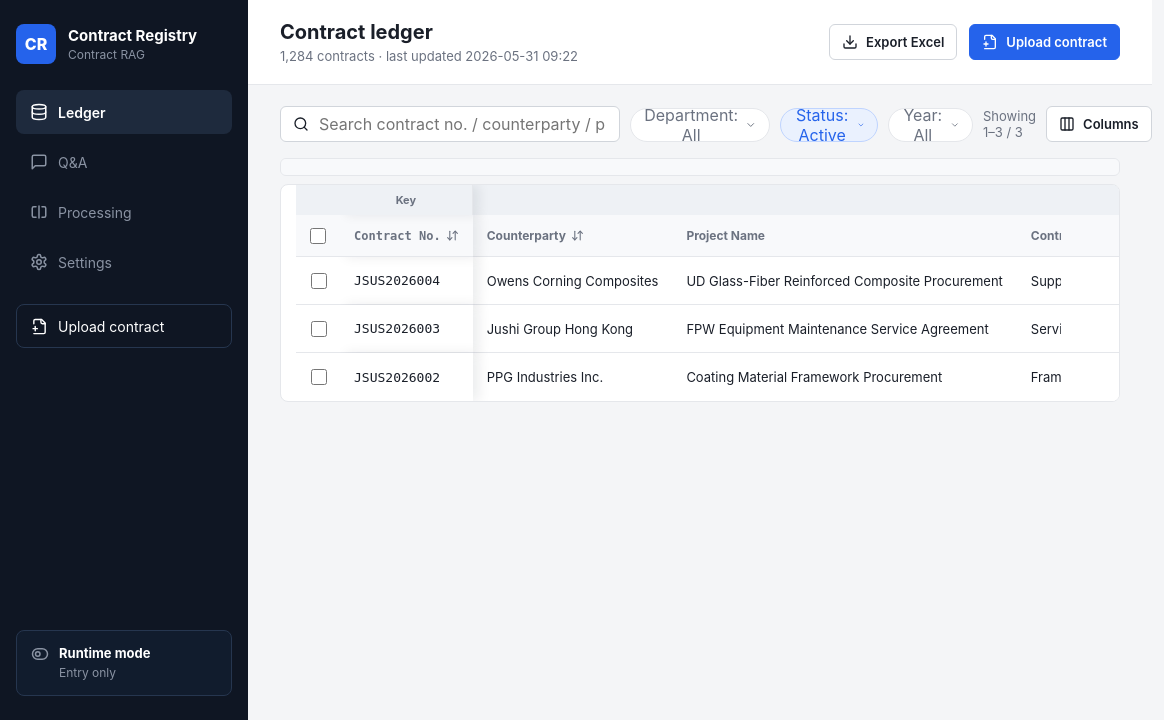
Test case: Contract-RAG frontend › shows a filter empty state and can clear ledger filters
Expected: the text "Owens Corning Composites" is shown, left=473, top=257, right=672, bottom=305
In the field with placeholder "Search contract no. / counterparty / project": {"x": 462, "y": 124} left=317, top=112, right=607, bottom=134, type "no such contract"
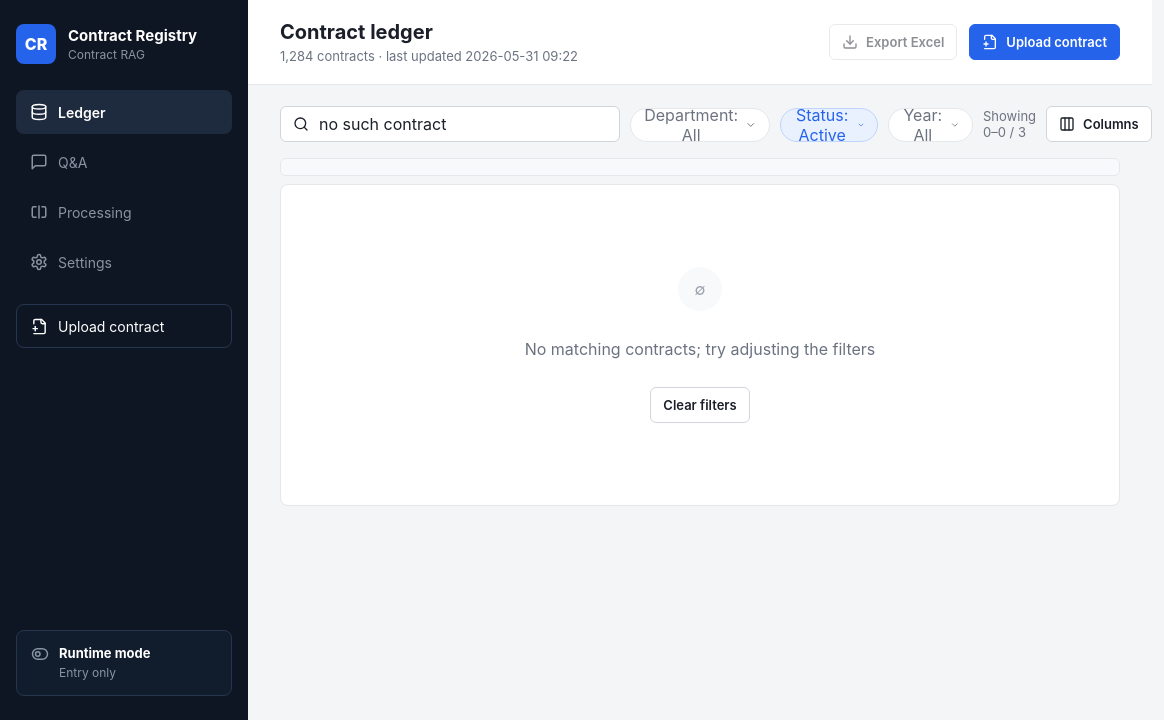
Expected: the text "No matching contracts; try adjusting the filters" is shown, left=525, top=339, right=875, bottom=359
Click the button "Clear filters": {"x": 700, "y": 405} left=650, top=387, right=750, bottom=423
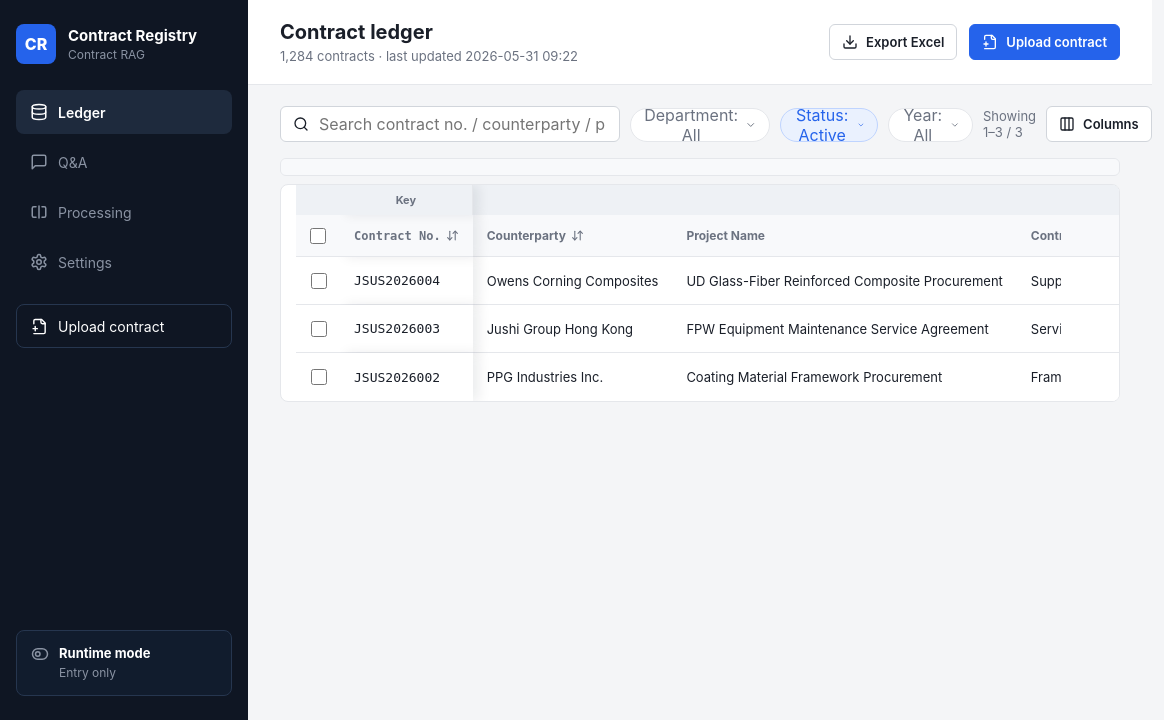
Expected: the text "Owens Corning Composites" is shown, left=473, top=257, right=672, bottom=305
Expected: the field with placeholder "Search contract no. / counterparty / project" is empty, left=317, top=112, right=607, bottom=134
